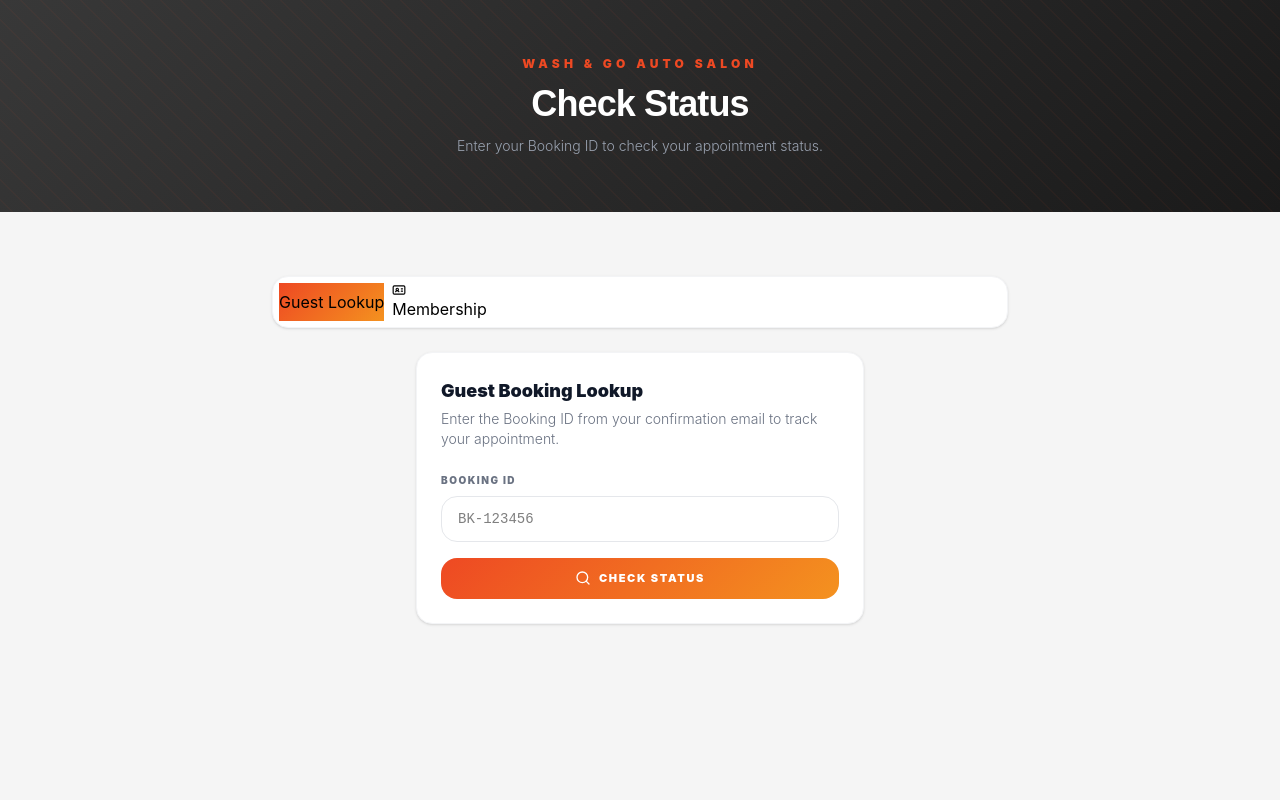
CheckStatus deep-link prefill › switches between the Guest Lookup and Membership tabs
expect the field with placeholder "BK-123456" is shown: met, box [441, 496, 839, 542]
Click the button "Membership" at {"x": 439, "y": 302}, box [392, 283, 487, 321]
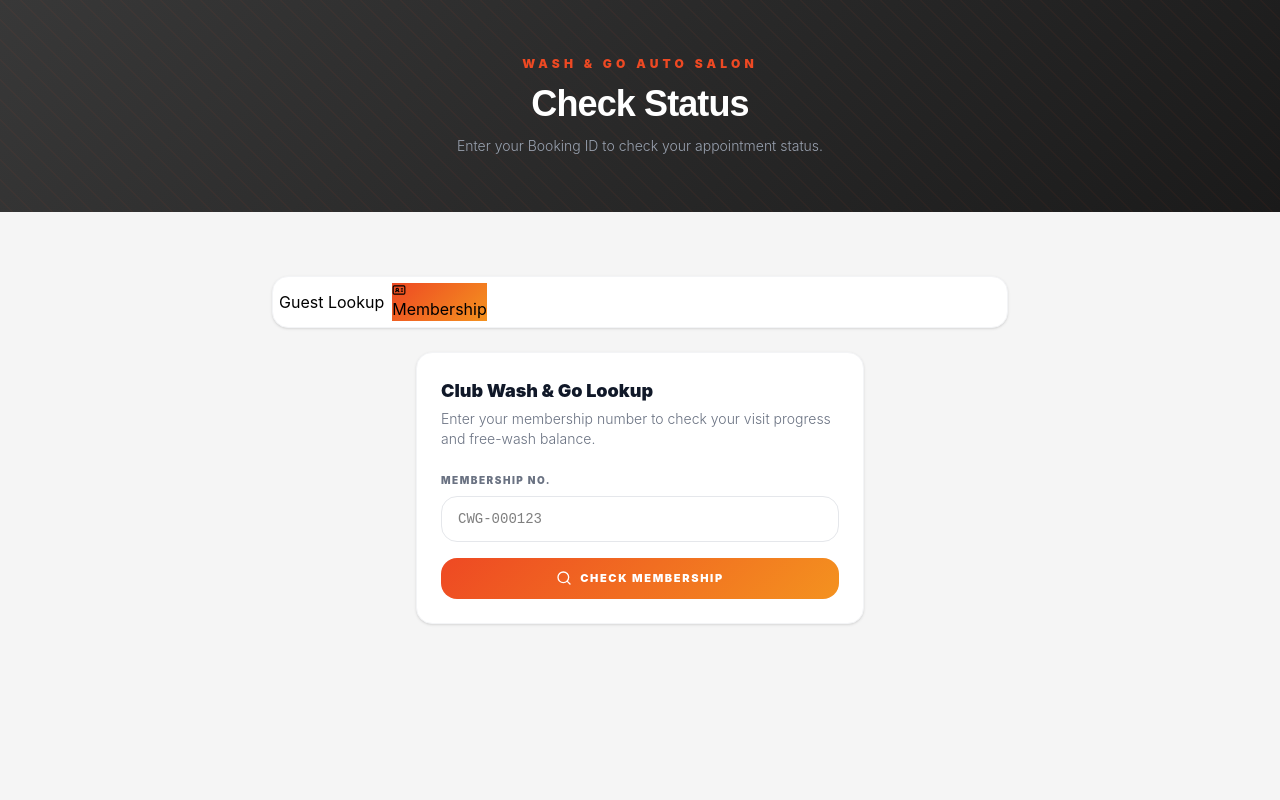
expect the field with placeholder "CWG-000123" is shown: met, box [441, 496, 839, 542]
expect the field with placeholder "BK-123456" is gone: met
Click the button "Guest Lookup" at {"x": 332, "y": 302}, box [279, 283, 384, 321]
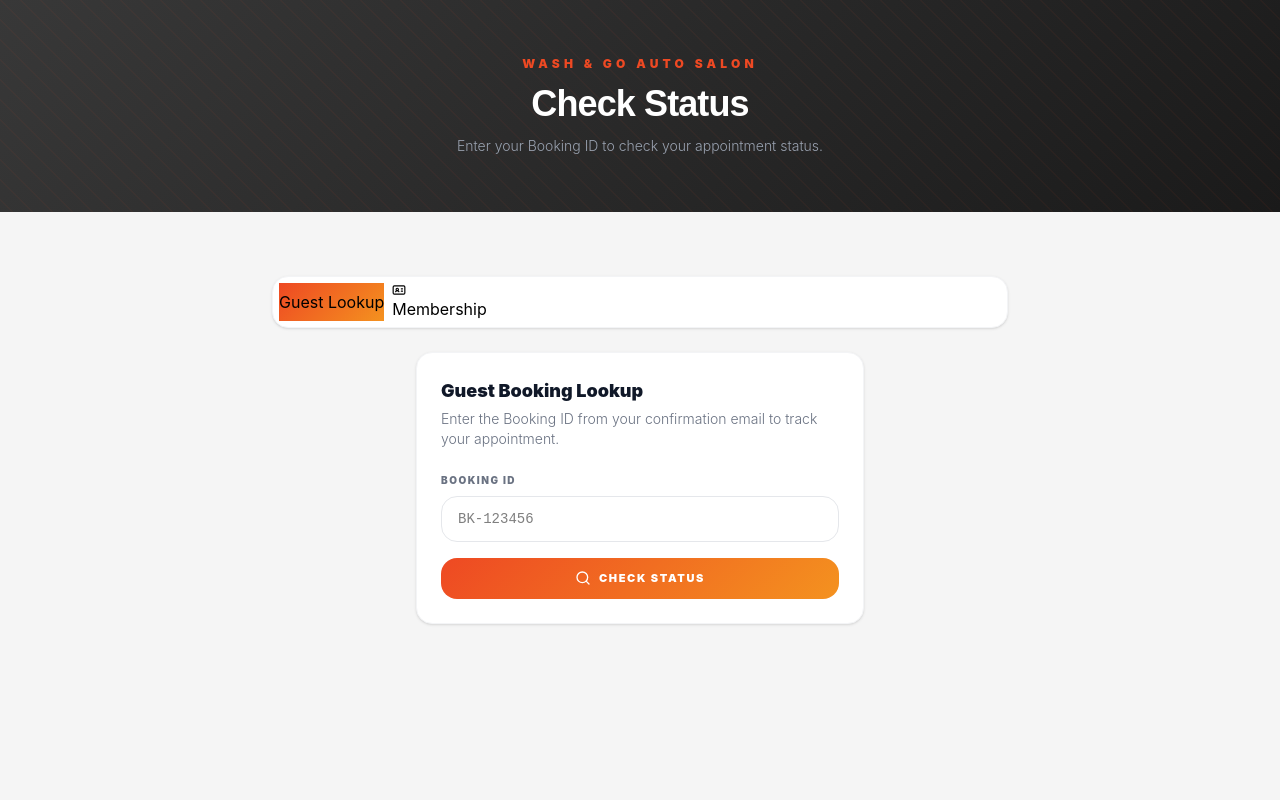
expect the field with placeholder "BK-123456" is shown: met, box [441, 496, 839, 542]
